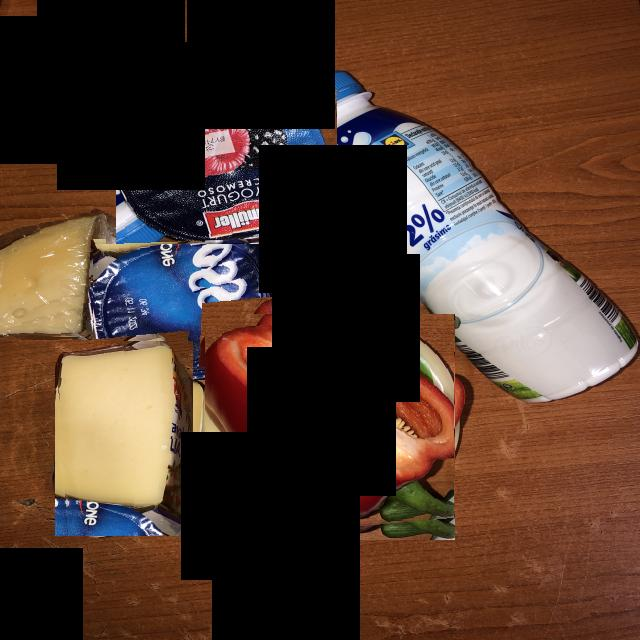cheese: (55, 340, 193, 536), (0, 213, 108, 339)
pepper: (205, 314, 456, 540)
yogurt: (116, 89, 337, 248), (93, 244, 277, 380)
